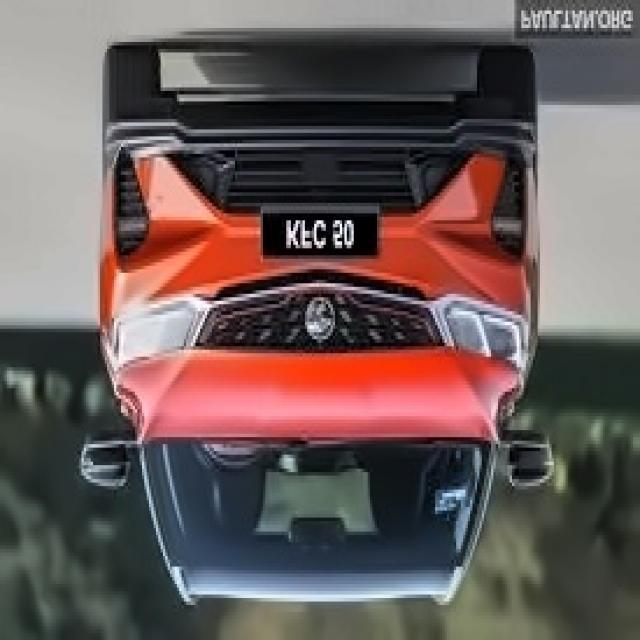car-plate: (263, 208, 378, 258)
